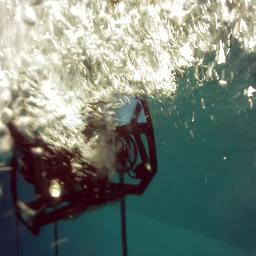front: (0, 94, 158, 235)
